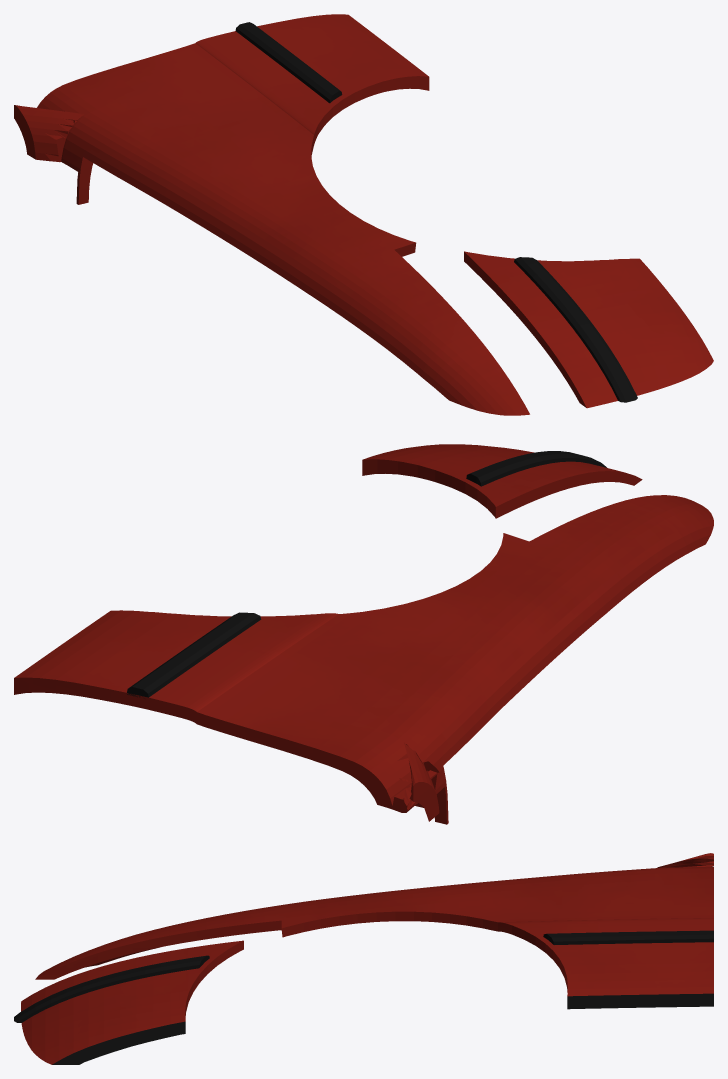
The model's file is paralama_e_van.glb.
3 views of the same model, one above another, from view 1: azimuth 30°, elevation 25°; view 2: azimuth 150°, elevation 25°; view 3: azimuth 270°, elevation 25° (orthographic). The views are drawn at different scales.
Parts seen in each view (by area): view 1: paralama_e_van_pintura, paralama_e_van_borracha; view 2: paralama_e_van_pintura, paralama_e_van_borracha; view 3: paralama_e_van_pintura, paralama_e_van_borracha, paralama_e_van_chassi.
Boxes of the visible parts, left/top/right/bottom form: paralama_e_van_pintura: left=14, top=14, right=713, bottom=415; paralama_e_van_borracha: left=235, top=22, right=637, bottom=402; paralama_e_van_pintura: left=14, top=444, right=713, bottom=824; paralama_e_van_borracha: left=127, top=451, right=606, bottom=698; paralama_e_van_pintura: left=21, top=853, right=713, bottom=1064; paralama_e_van_borracha: left=14, top=930, right=713, bottom=1022; paralama_e_van_chassi: left=52, top=993, right=713, bottom=1064.
Bounding box in the file's own units: 0.685 × 0.1867 × 1.37.
3 materials, 1 textured.
